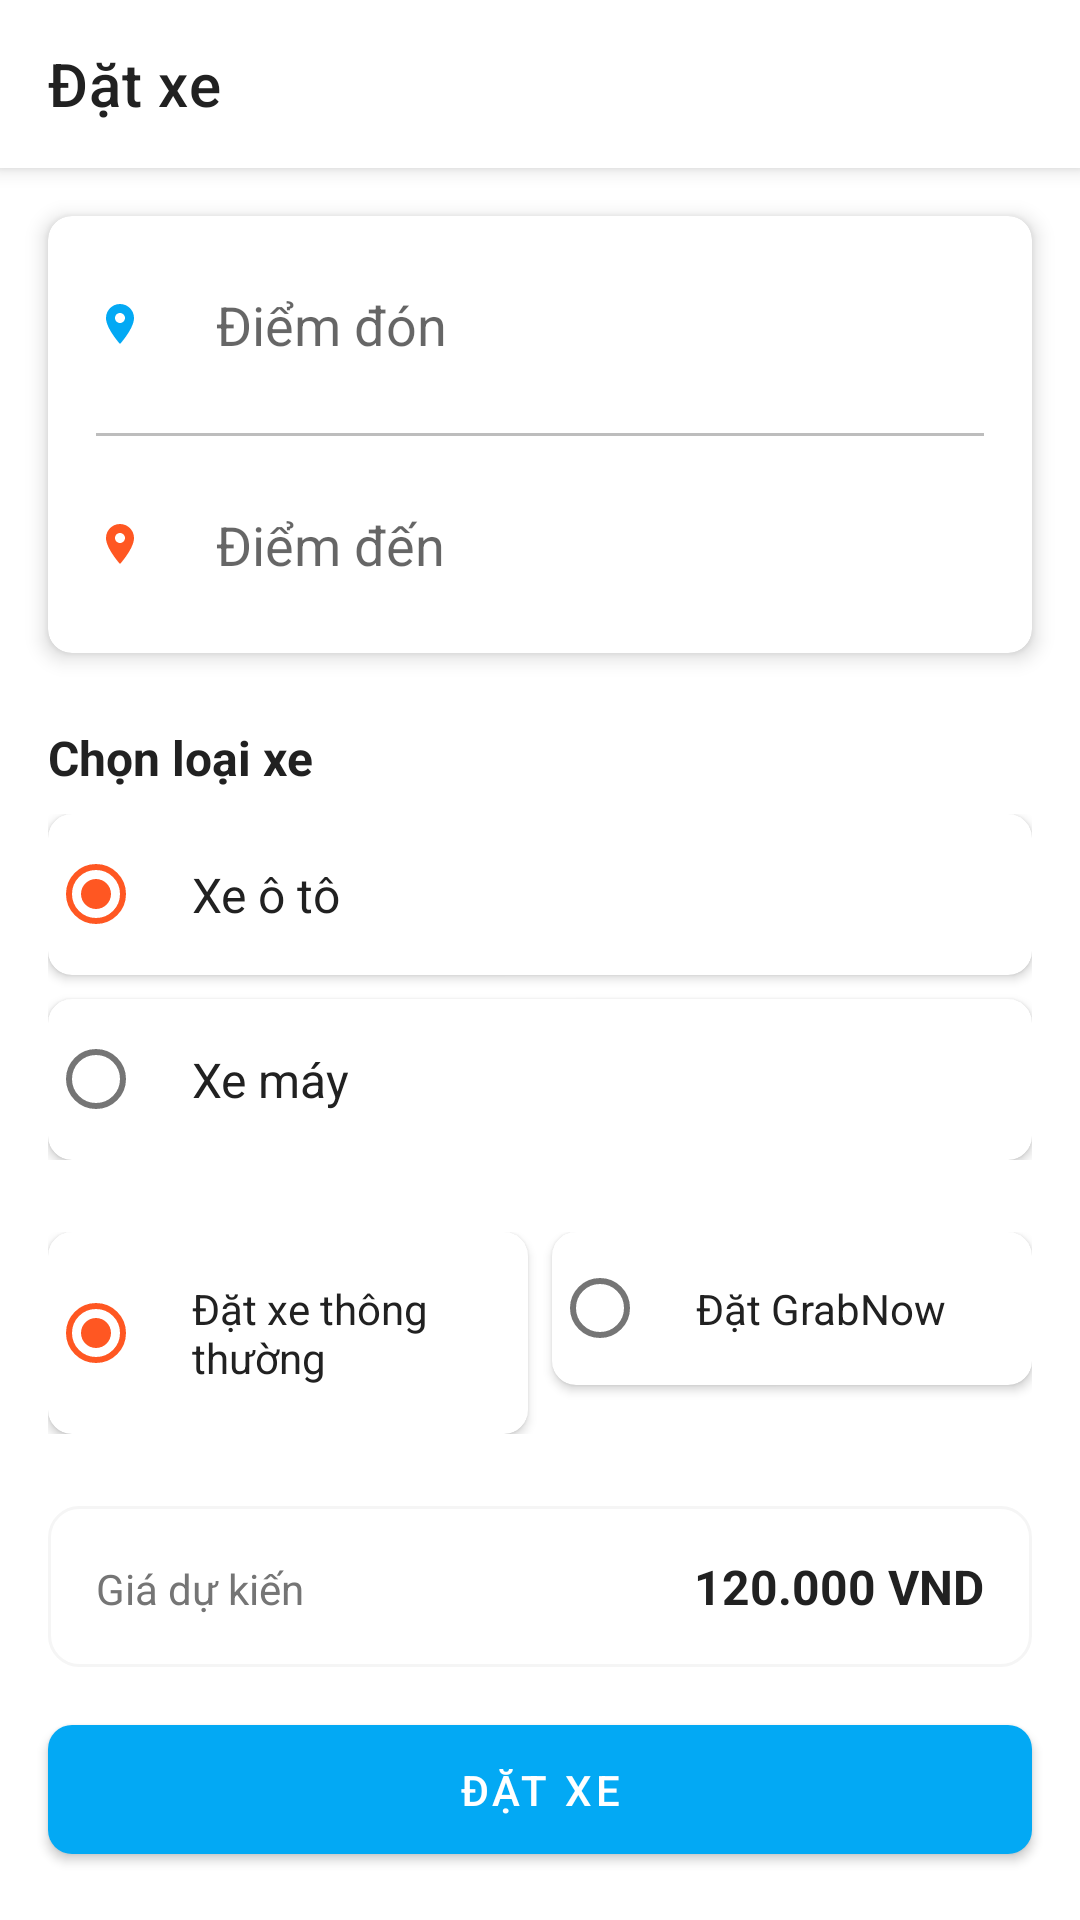

Screen size 1080x1920. Icon name, then its center in pixels as point (x, y):
location dropoff: point (120, 544)
location pickup: point (120, 324)
